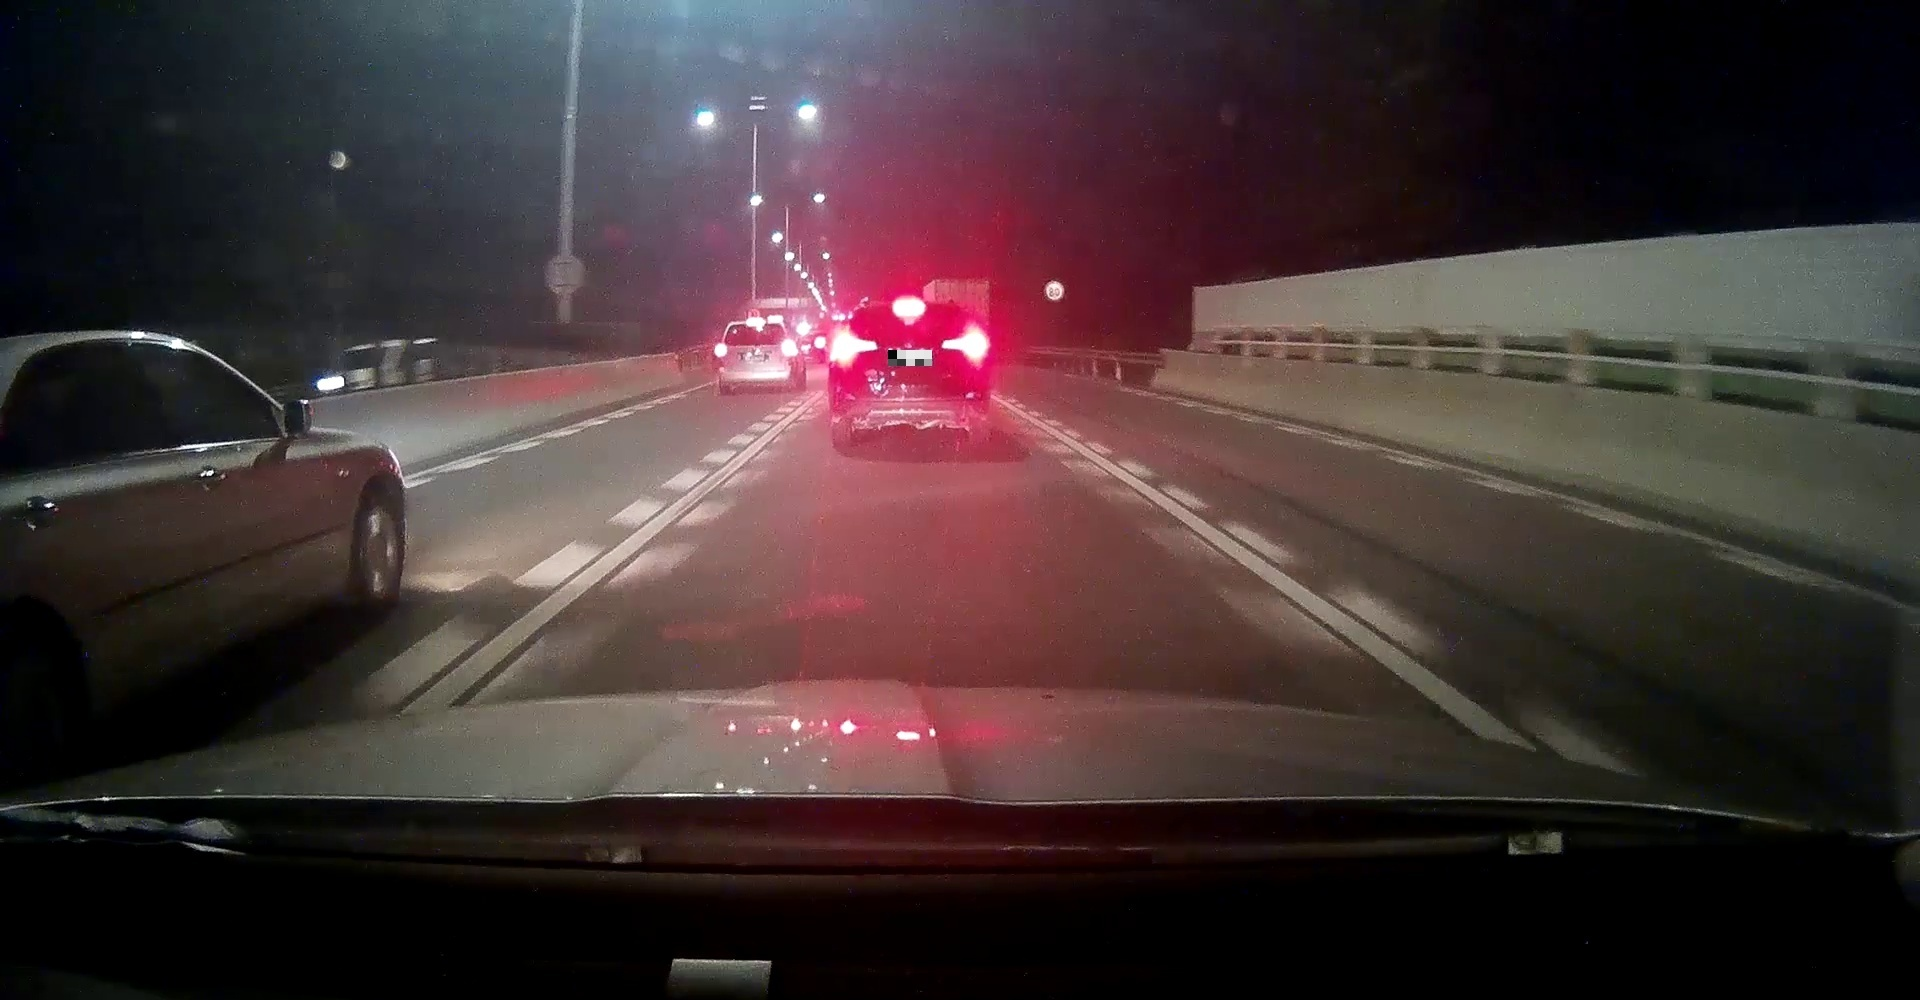L_light: (829, 329, 879, 362), (715, 343, 728, 357)
R_light: (940, 329, 988, 359), (782, 341, 796, 357)
T_light: (891, 303, 924, 313), (747, 321, 766, 326)
night-brake: (825, 297, 989, 449), (715, 319, 797, 393)
plate_1: (888, 350, 932, 365)
